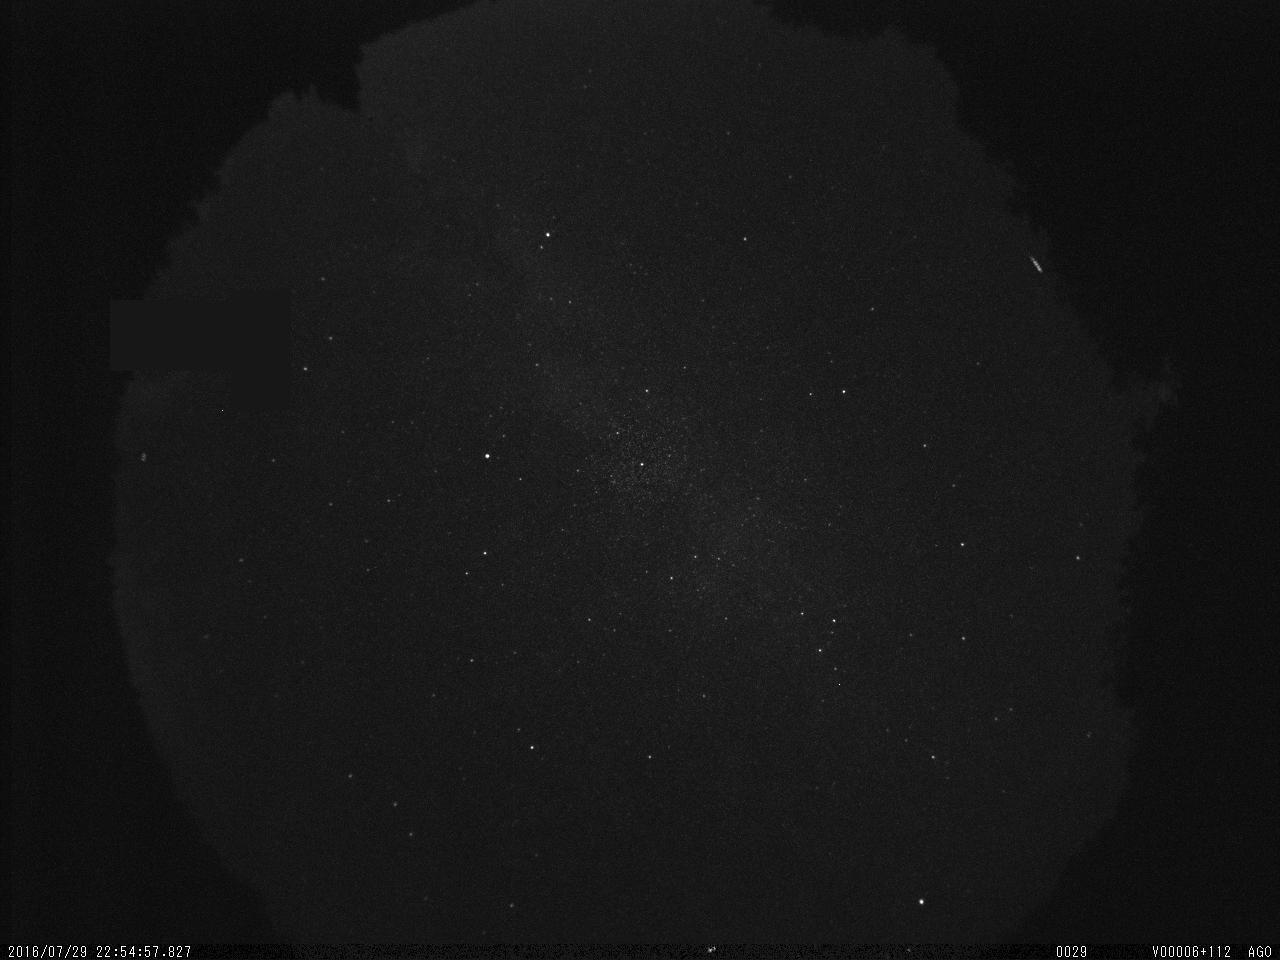meteor: (1018, 239, 1053, 294)
